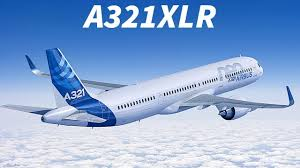maybay_dansu: (16, 49, 296, 125)
